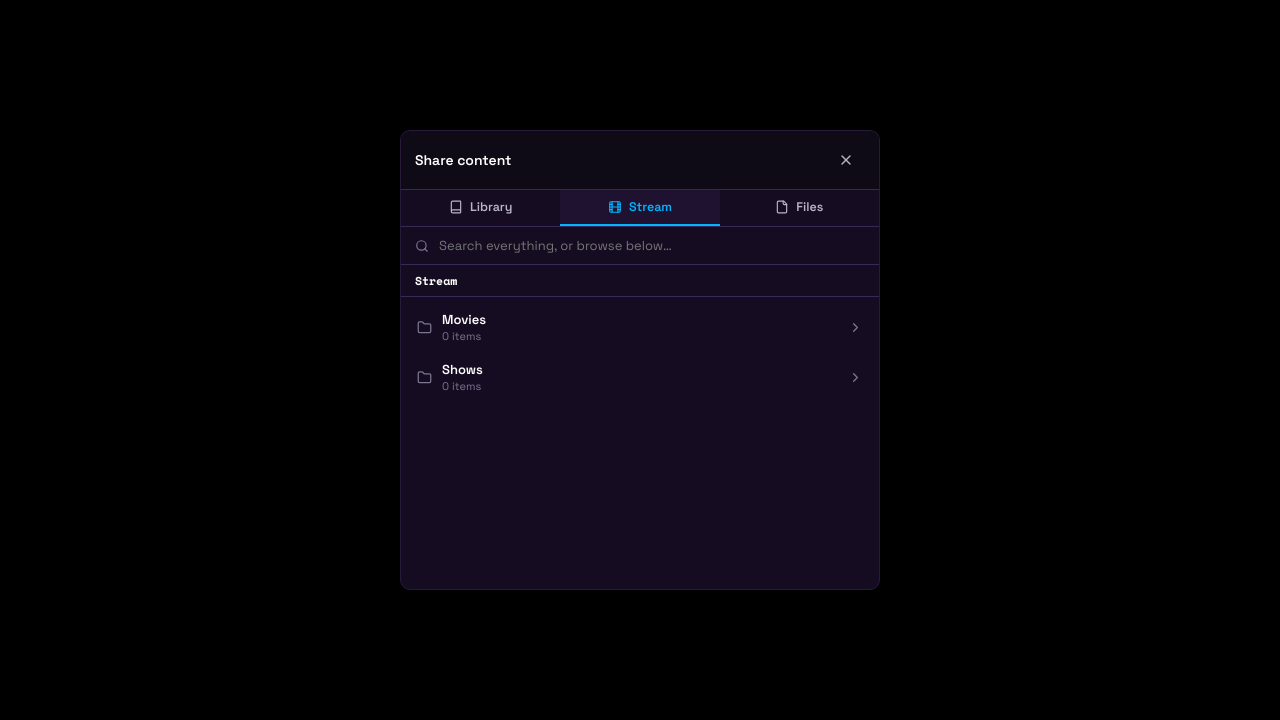
SharePicker › lets a breadcrumb climb back out of the trail
Click the button "Shows 0 items".
click(462, 370)  # box [407,353,873,401]
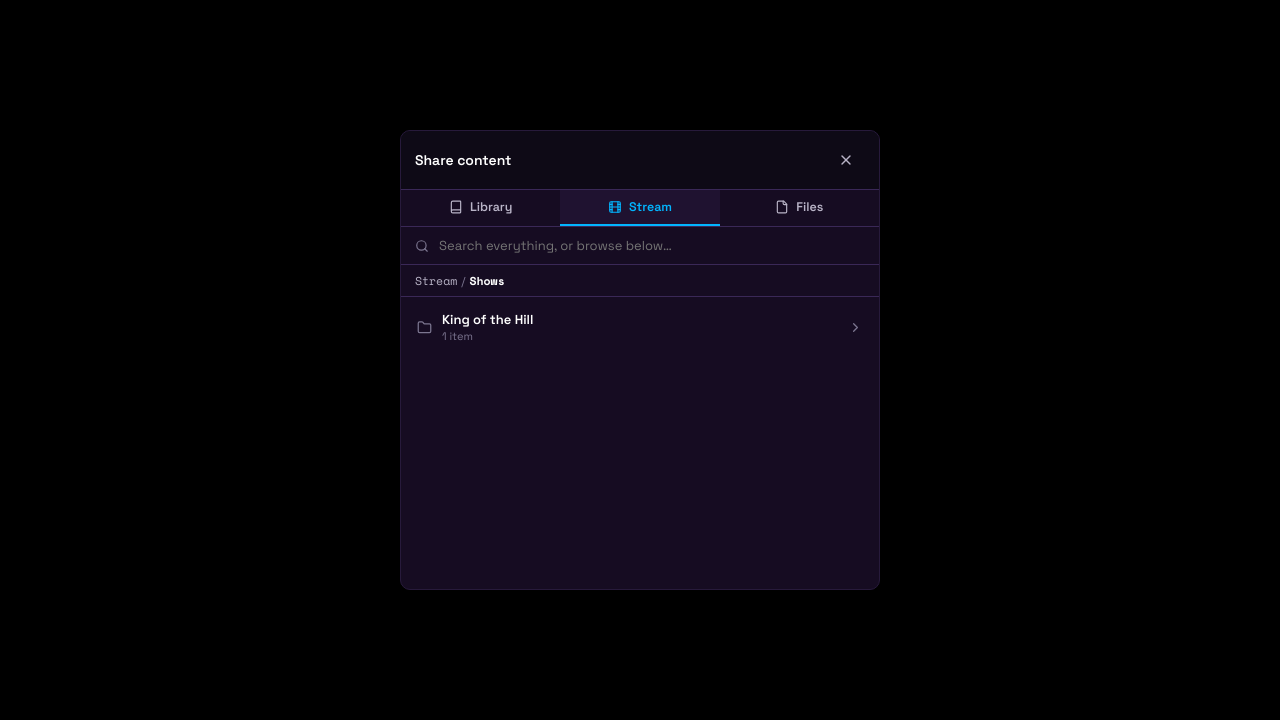
Expected: the text "King of the Hill" is shown, [442,311,533,328]
Click the button "Stream".
click(436, 280)  # box [415,272,457,289]
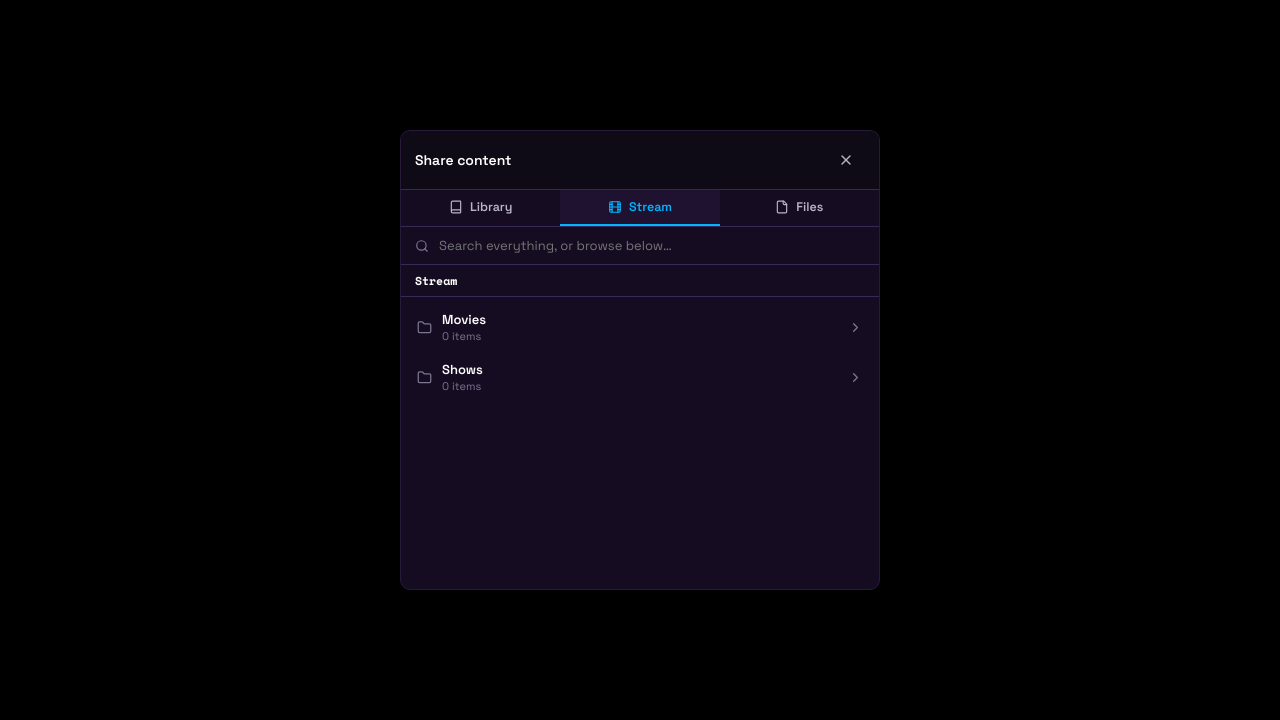
Expected: the text "Movies" is shown, [442,311,486,328]
